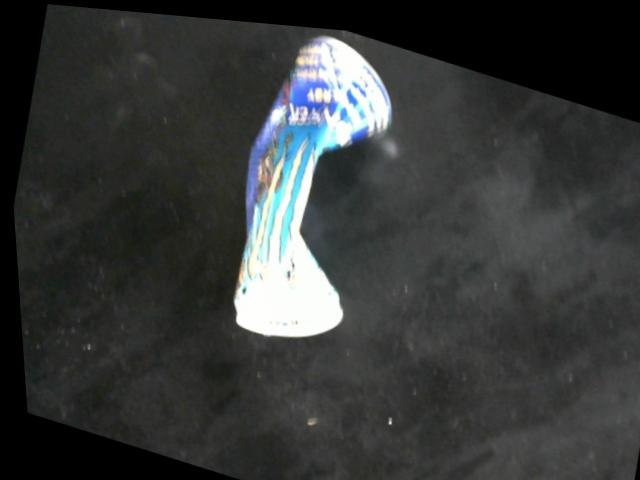can: (224, 27, 399, 335)
